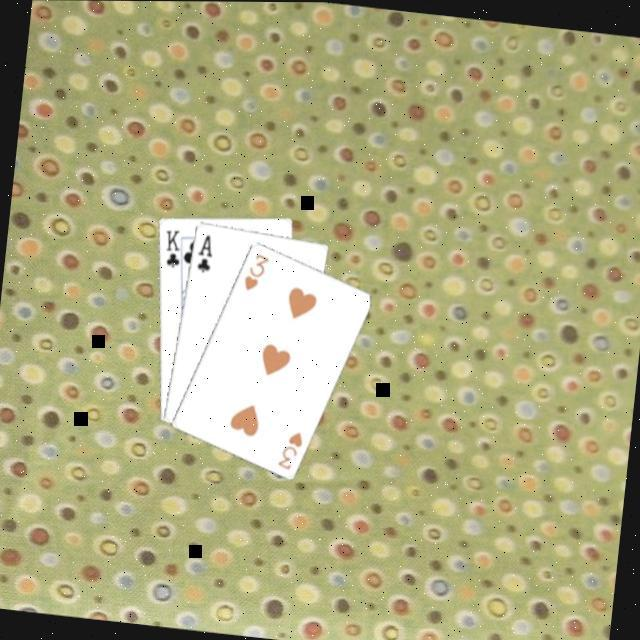3H: (274, 424, 308, 471), (241, 245, 273, 292)
AC: (194, 228, 218, 272)
KC: (160, 224, 191, 272)
